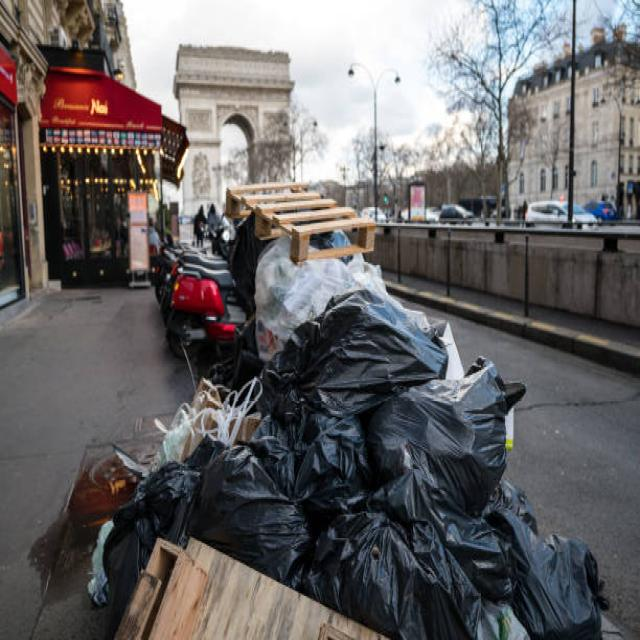trash: (249, 245, 607, 632)
